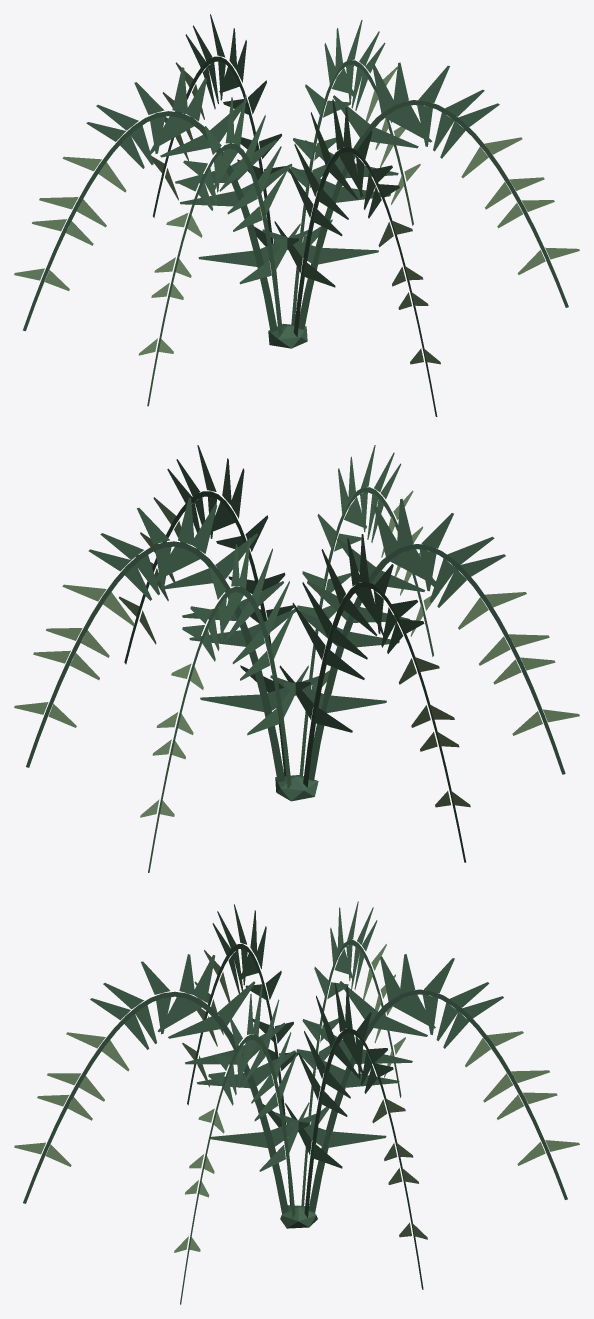
Rendered from fern.glb.
3 views of the same model, one above another, from view 1: azimuth 30°, elevation 25°; view 2: azimuth 150°, elevation 25°; view 3: azimuth 270°, elevation 25° (orthographic). The views are drawn at different scales.
Visible parts, largest first — view 1: fern; view 2: fern; view 3: fern.
Part boxes in pixels (left/top/right/bottom): fern: left=14, top=14, right=579, bottom=416; fern: left=14, top=445, right=579, bottom=872; fern: left=14, top=901, right=579, bottom=1304.
Size of the model in its own units: 1.26 by 0.7606 by 1.4.
